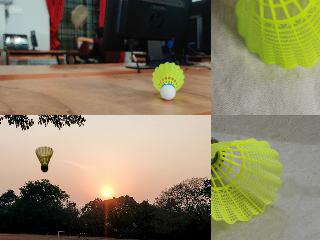shuttlecock: (211, 135, 282, 224), (233, 0, 319, 69), (152, 62, 184, 100), (35, 146, 53, 172)
